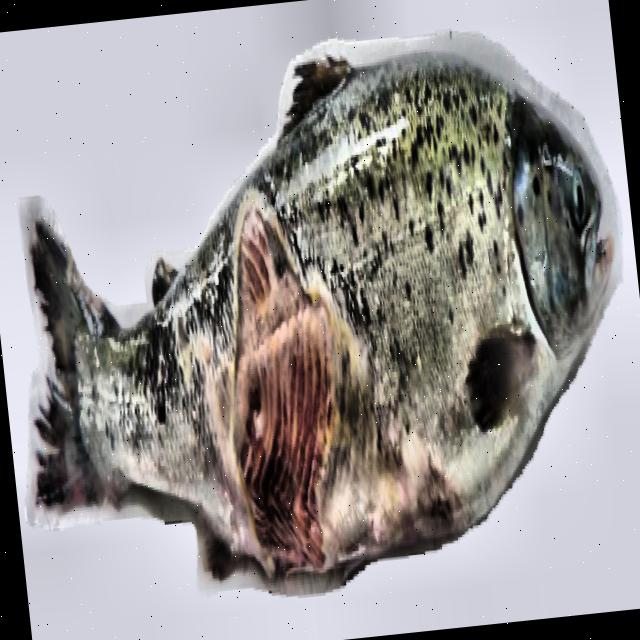wound: (229, 190, 406, 567)
